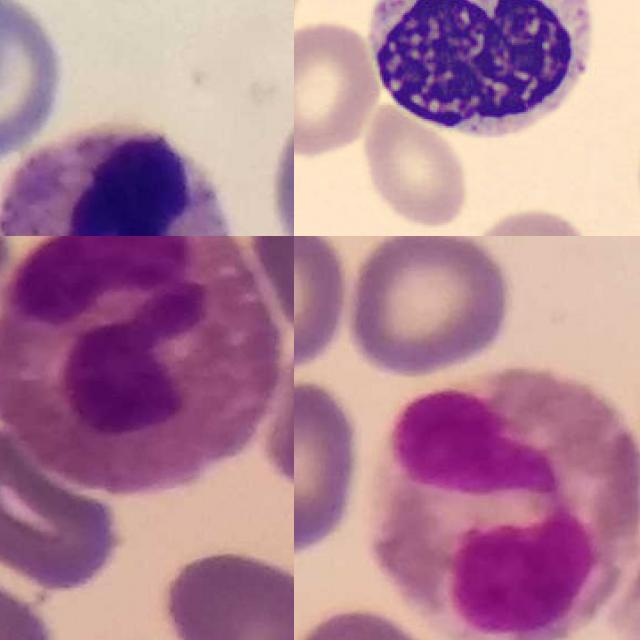Eosinophil: (366, 366, 640, 640), (0, 236, 283, 496)
Monocyte: (355, 0, 604, 145)
Neutrophil: (0, 123, 234, 236)
RBC: (357, 96, 473, 234), (294, 16, 382, 163), (460, 202, 597, 236)
